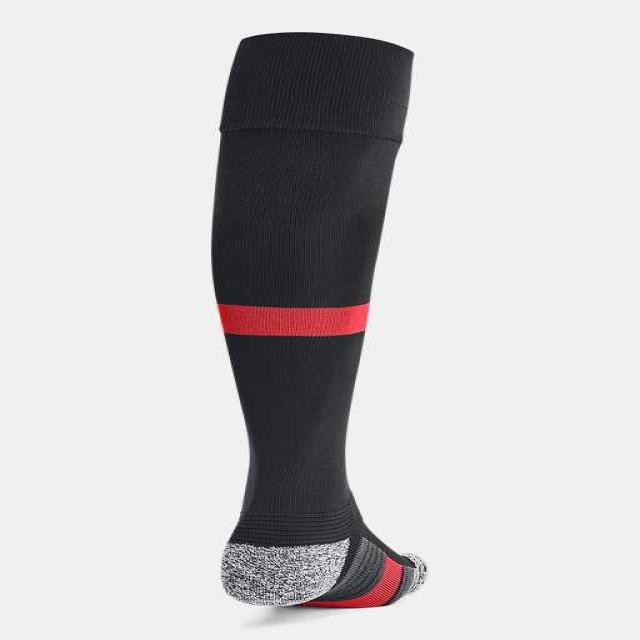sock: (210, 31, 426, 608)
